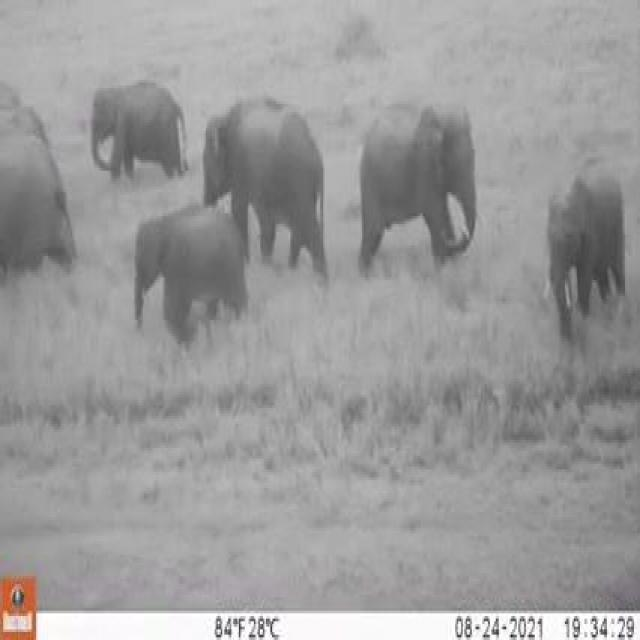Elephant: (356, 83, 483, 252), (195, 93, 322, 224), (545, 165, 630, 329), (131, 205, 240, 315), (83, 64, 183, 178)
